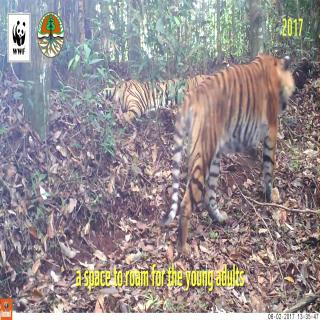Tiger: (175, 48, 296, 234), (93, 68, 182, 134)
